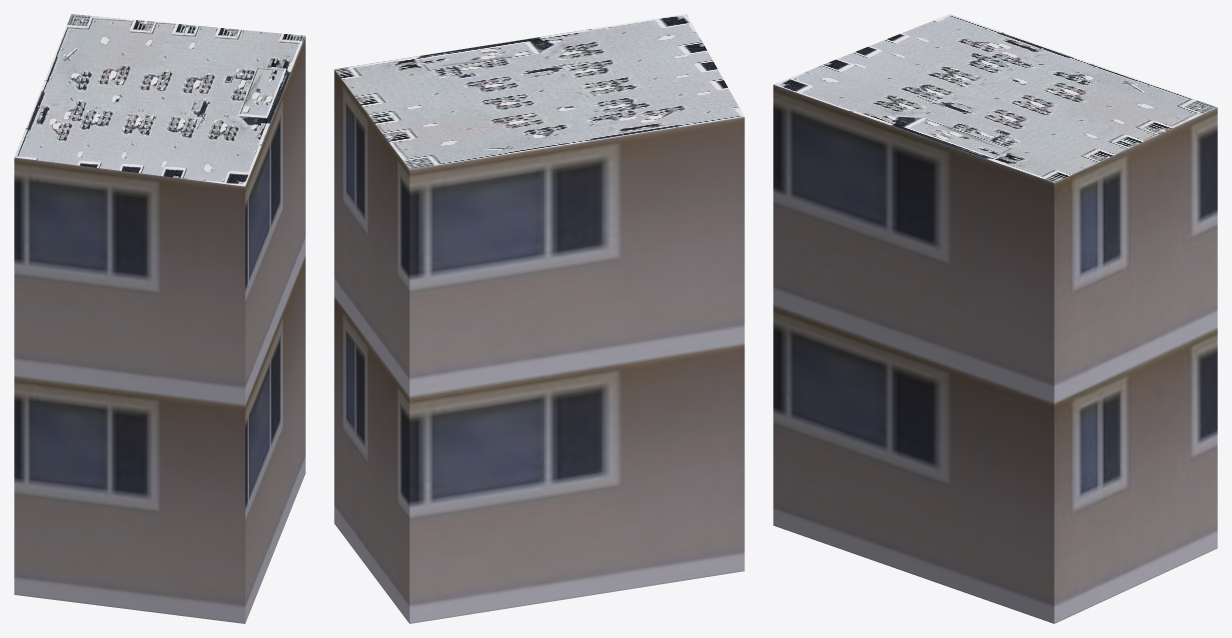
Rendered from ResTex__1290.fbx.
3 views of the same model, side by side, from view 1: azimuth 30°, elevation 25°; view 2: azimuth 150°, elevation 25°; view 3: azimuth 270°, elevation 25° (orthographic). The views are drawn at different scales.
Visible parts, largest first — view 1: CityEngineMaterial_21_m, CityEngineMaterial_8_m; view 2: CityEngineMaterial_21_m, CityEngineMaterial_8_m; view 3: CityEngineMaterial_21_m, CityEngineMaterial_8_m.
Boxes of the visible parts, bbox=[...] form: CityEngineMaterial_21_m: bbox=[14, 37, 305, 623]; CityEngineMaterial_8_m: bbox=[14, 14, 305, 186]; CityEngineMaterial_21_m: bbox=[334, 70, 744, 623]; CityEngineMaterial_8_m: bbox=[334, 14, 744, 169]; CityEngineMaterial_21_m: bbox=[773, 84, 1217, 623]; CityEngineMaterial_8_m: bbox=[773, 14, 1217, 182].
Bounding box in the file's own units: 4.93 × 6 × 5.48.
2 materials, 2 textured.
